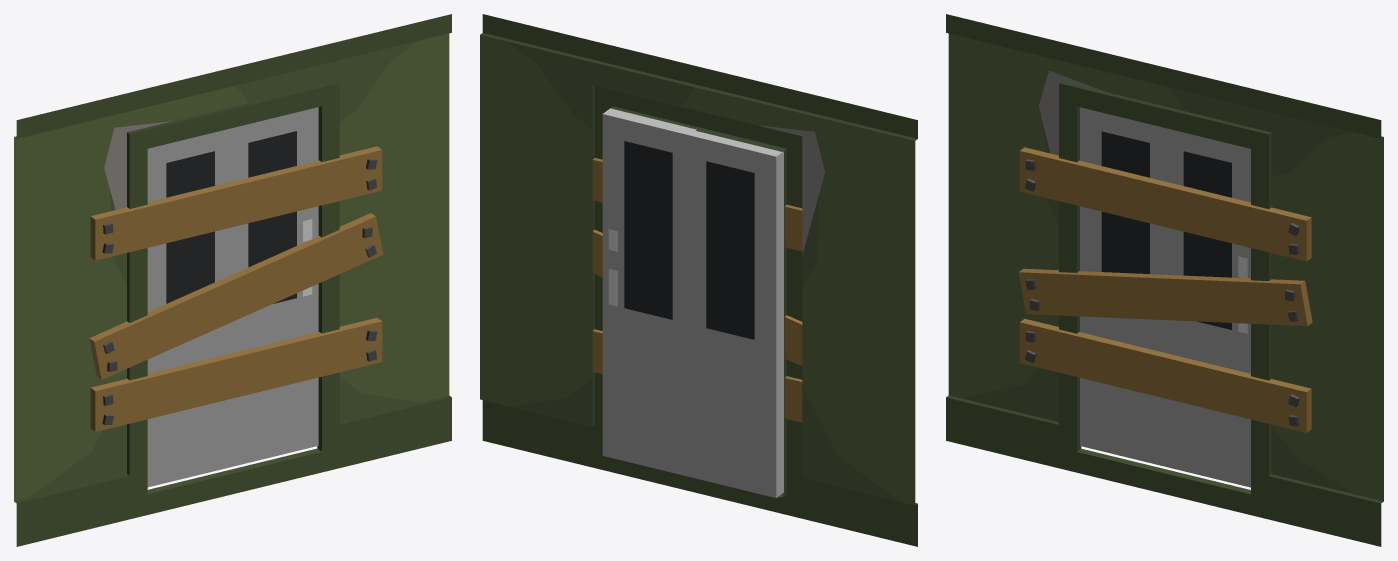
The model's file is AI_Env_Wall_Green_BlockedDoor_02.fbx.
The picture shows the model from 3 angles, left to right: view 1: azimuth 30°, elevation 25°; view 2: azimuth 150°, elevation 25°; view 3: azimuth 330°, elevation 25°; orthographic projection.
Visible parts, largest first — view 1: AI_Env_Wall_Green_BlockedDoor_02; view 2: AI_Env_Wall_Green_BlockedDoor_02; view 3: AI_Env_Wall_Green_BlockedDoor_02.
Part boxes in pixels (box(x1,y1,x2,y2)): AI_Env_Wall_Green_BlockedDoor_02: box(14, 14, 451, 546); AI_Env_Wall_Green_BlockedDoor_02: box(480, 14, 917, 546); AI_Env_Wall_Green_BlockedDoor_02: box(946, 14, 1383, 546).
Bounding box in the file's own units: 5 × 4.69 × 0.3005.
